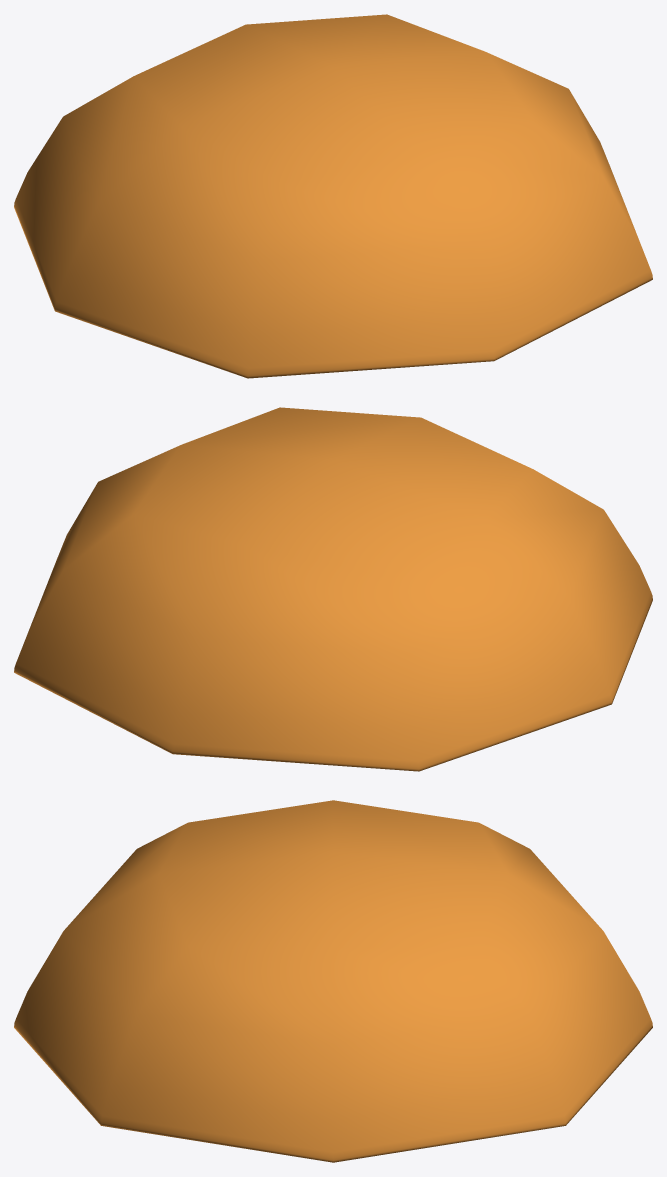
Rendered from hamburger2.glb.
The picture shows the model from 3 angles, top to bottom: view 1: azimuth 30°, elevation 25°; view 2: azimuth 150°, elevation 25°; view 3: azimuth 270°, elevation 25°; orthographic projection.
Visible parts, largest first — view 1: Cube.002; view 2: Cube.002; view 3: Cube.002.
Part boxes in pixels (bbox=[...]): Cube.002: bbox=[14, 14, 652, 378]; Cube.002: bbox=[14, 407, 652, 771]; Cube.002: bbox=[14, 800, 652, 1162].
Bounding box in the file's own units: 12.85 × 3.91 × 12.85.
